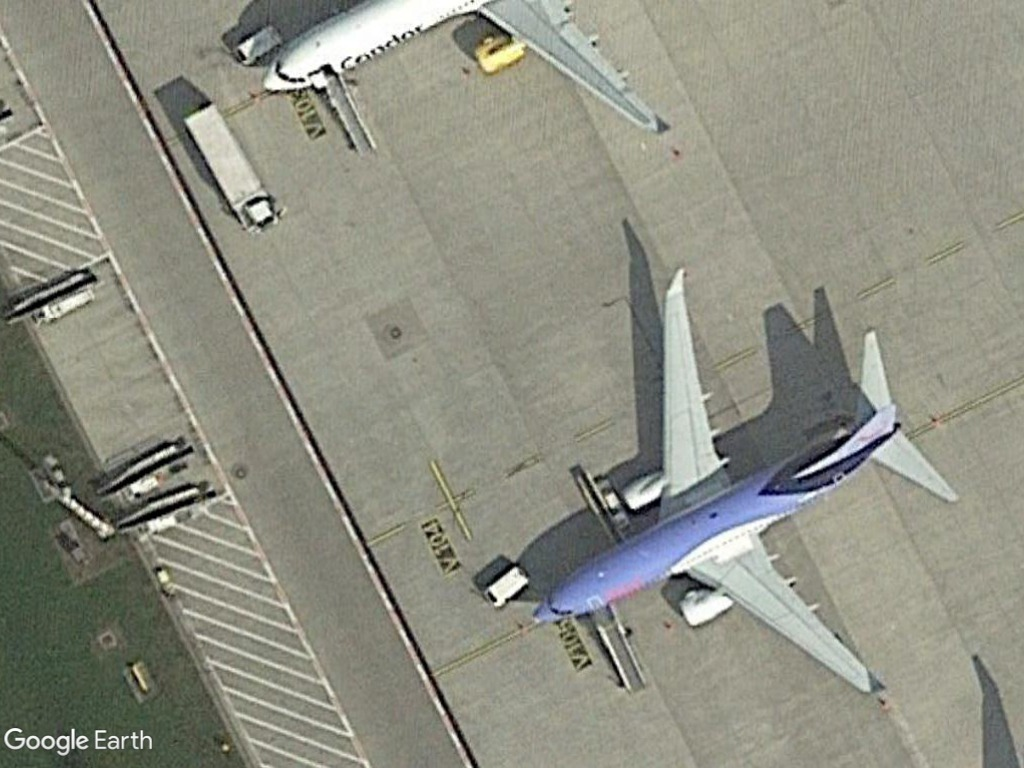airliner: (502, 257, 964, 710)
